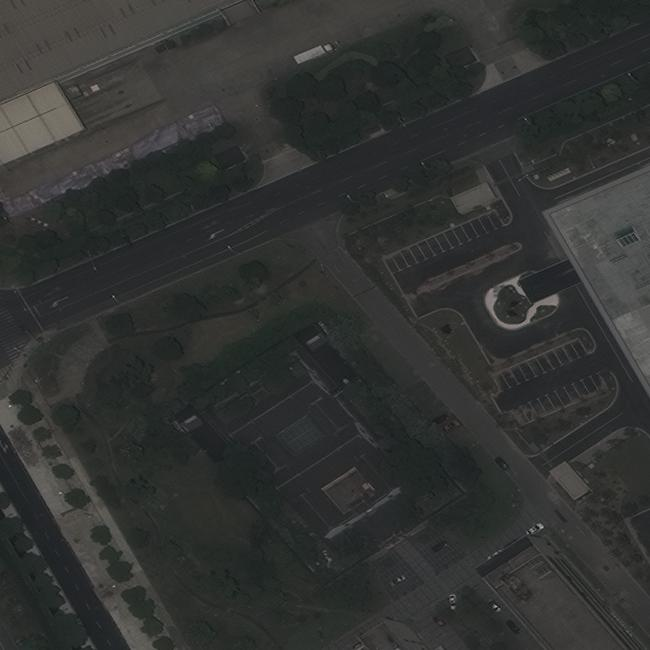parking lot: (388, 212, 503, 268), (518, 372, 608, 427), (497, 341, 587, 388)
